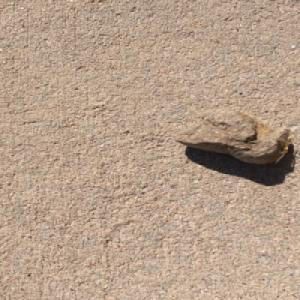Rock: (172, 107, 293, 164)
